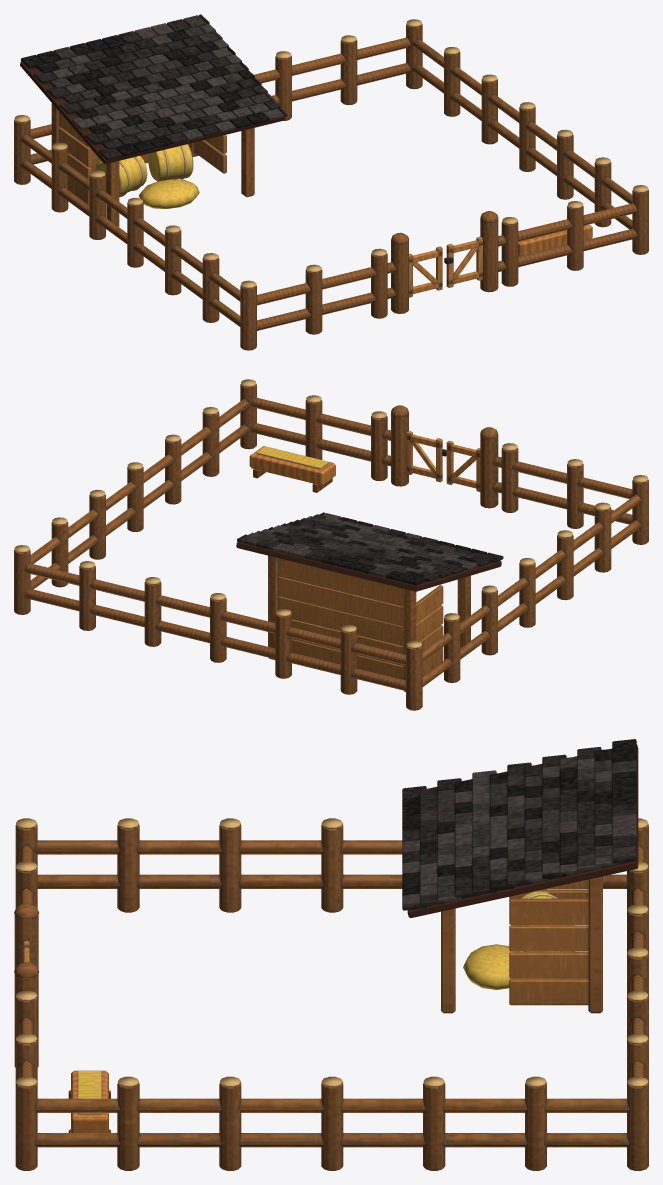
File: karakul_fold.glb
The picture shows the model from 3 angles, top to bottom: view 1: azimuth 30°, elevation 25°; view 2: azimuth 150°, elevation 25°; view 3: azimuth 270°, elevation 25°; orthographic projection. The views are drawn at different scales.
Visible parts, largest first — view 1: karakul_fold, gate1, gate0; view 2: karakul_fold, gate1, gate0; view 3: karakul_fold.
Boxes of the visible parts, box(x1,y1,x2,y2) form: karakul_fold: box(14, 14, 648, 350); gate1: box(444, 236, 482, 287); gate0: box(409, 246, 442, 297); karakul_fold: box(14, 379, 648, 710); gate1: box(406, 431, 446, 482); gate0: box(446, 440, 480, 491); karakul_fold: box(14, 739, 648, 1170).
Bounding box in the file's own units: 3 × 0.9345 × 3.01.
Materials: 1 (1 with a texture image).
